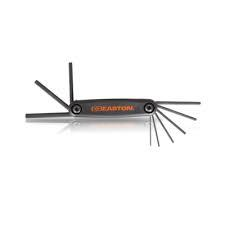wrench: (32, 78, 71, 110), (155, 107, 187, 135), (154, 103, 197, 121), (154, 111, 175, 144), (147, 110, 162, 148), (66, 60, 74, 102), (23, 111, 74, 117), (154, 99, 201, 105)
